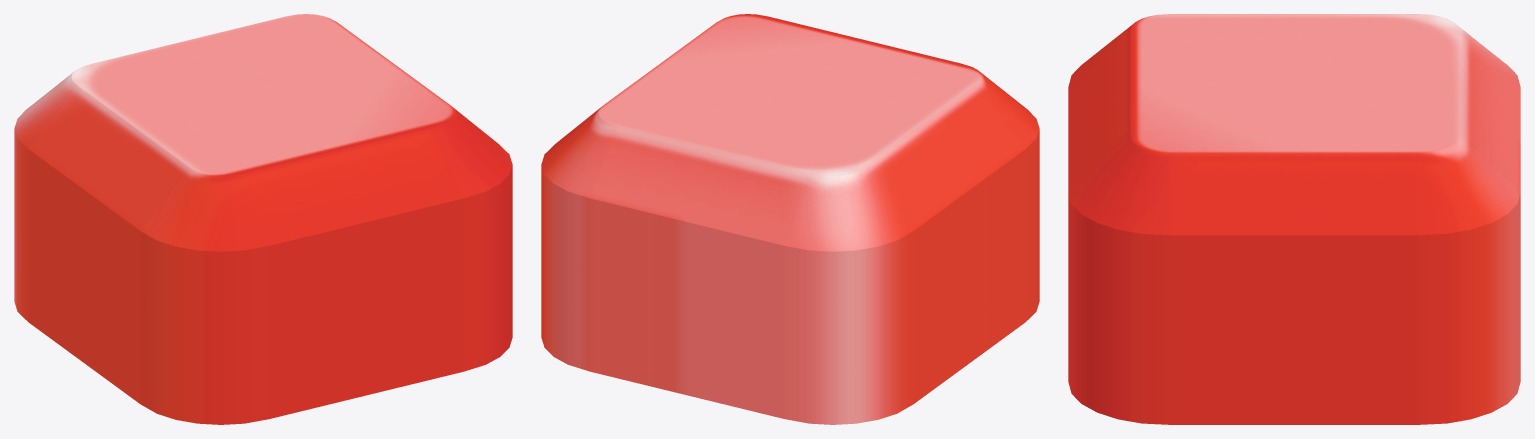
File: Block_1x1_Red.glb
3 renders of one model, left to right at view 1: azimuth 30°, elevation 25°; view 2: azimuth 150°, elevation 25°; view 3: azimuth 270°, elevation 25°, orthographic. The views are drawn at different scales.
Parts seen in each view (by area): view 1: Edge_Bottom, FrontFace, Edge_Left, Corner_BottomLeft, Corner_BottomRight, Corner_TopLeft; view 2: Edge_Top, FrontFace, Edge_Left, Corner_TopLeft, Corner_TopRight, Corner_BottomLeft; view 3: Edge_Right, FrontFace, Corner_TopRight, Corner_BottomRight, Edge_Top, Edge_Bottom, Corner_TopLeft, Corner_BottomLeft.
Boxes of the visible parts, bbox=[...] form: Edge_Bottom: bbox=[241, 126, 463, 418]; FrontFace: bbox=[71, 14, 455, 176]; Edge_Left: bbox=[28, 86, 189, 403]; Corner_BottomLeft: bbox=[140, 168, 269, 424]; Corner_BottomRight: bbox=[436, 106, 512, 371]; Corner_TopLeft: bbox=[14, 71, 77, 321]; Edge_Top: bbox=[590, 126, 812, 418]; FrontFace: bbox=[598, 14, 982, 176]; Edge_Left: bbox=[864, 86, 1025, 403]; Corner_TopLeft: bbox=[784, 168, 913, 424]; Corner_TopRight: bbox=[541, 106, 617, 371]; Corner_BottomLeft: bbox=[976, 71, 1039, 321]; Edge_Right: bbox=[1171, 153, 1417, 424]; FrontFace: bbox=[1130, 14, 1458, 152]; Corner_TopRight: bbox=[1417, 135, 1520, 424]; Corner_BottomRight: bbox=[1068, 135, 1171, 424]; Edge_Top: bbox=[1458, 32, 1520, 190]; Edge_Bottom: bbox=[1068, 32, 1130, 190]; Corner_TopLeft: bbox=[1453, 22, 1520, 86]; Corner_BottomLeft: bbox=[1068, 22, 1135, 86].
Bounding box in the file's own units: 1 × 0.5995 × 1.
1 material, 1 textured.
